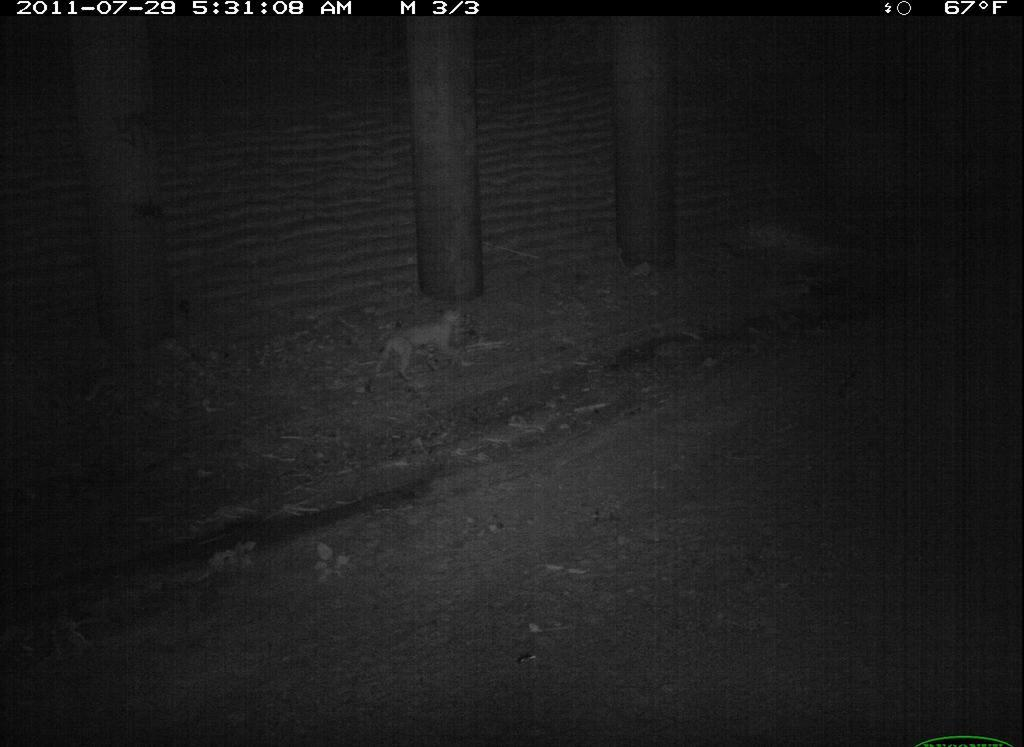bobcat: (729, 597, 945, 747)
